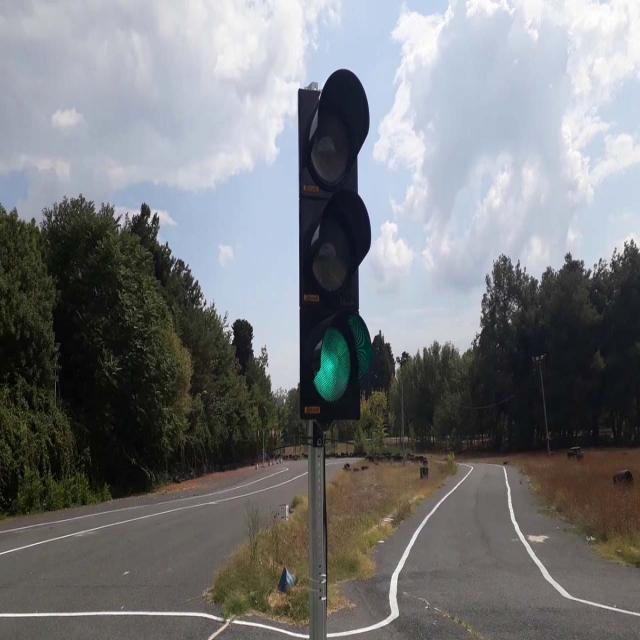yesil: (295, 72, 372, 418)
